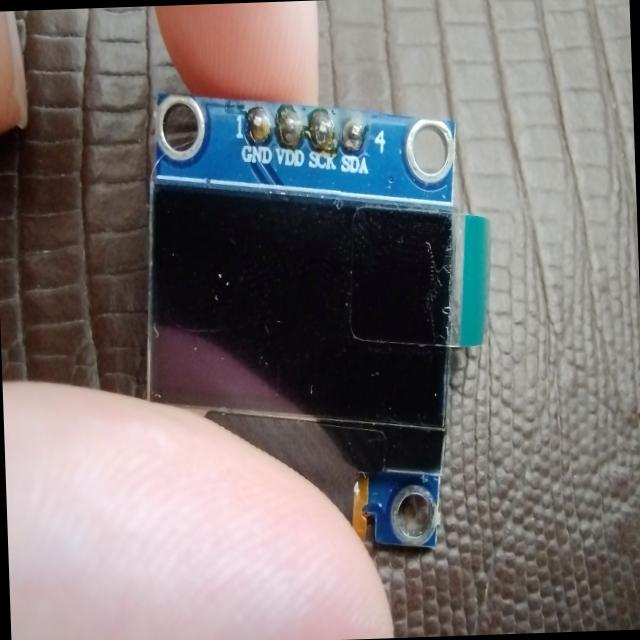oled: (138, 64, 508, 564)
